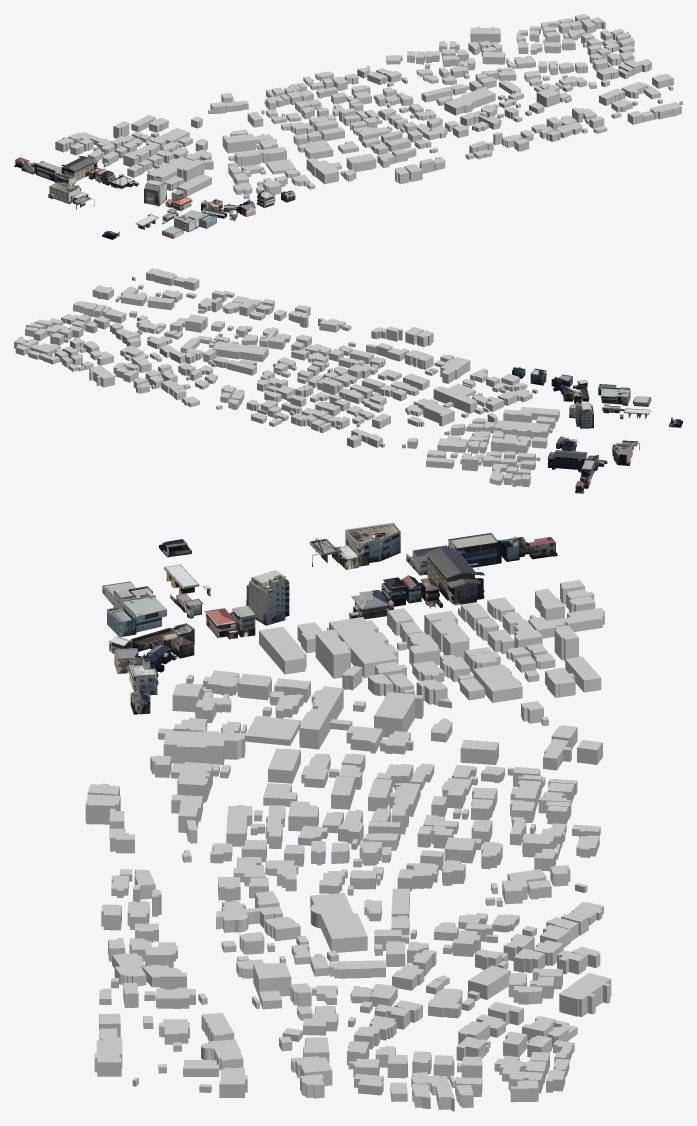
Rendered from 2023-lod3-station-2-3-packed.glb.
The picture shows the model from 3 angles, top to bottom: view 1: azimuth 30°, elevation 25°; view 2: azimuth 150°, elevation 25°; view 3: azimuth 270°, elevation 25°; orthographic projection. The views are drawn at different scales.
Size of the model in its own units: 616 by 21.69 by 238.
3 materials, 2 textured.
